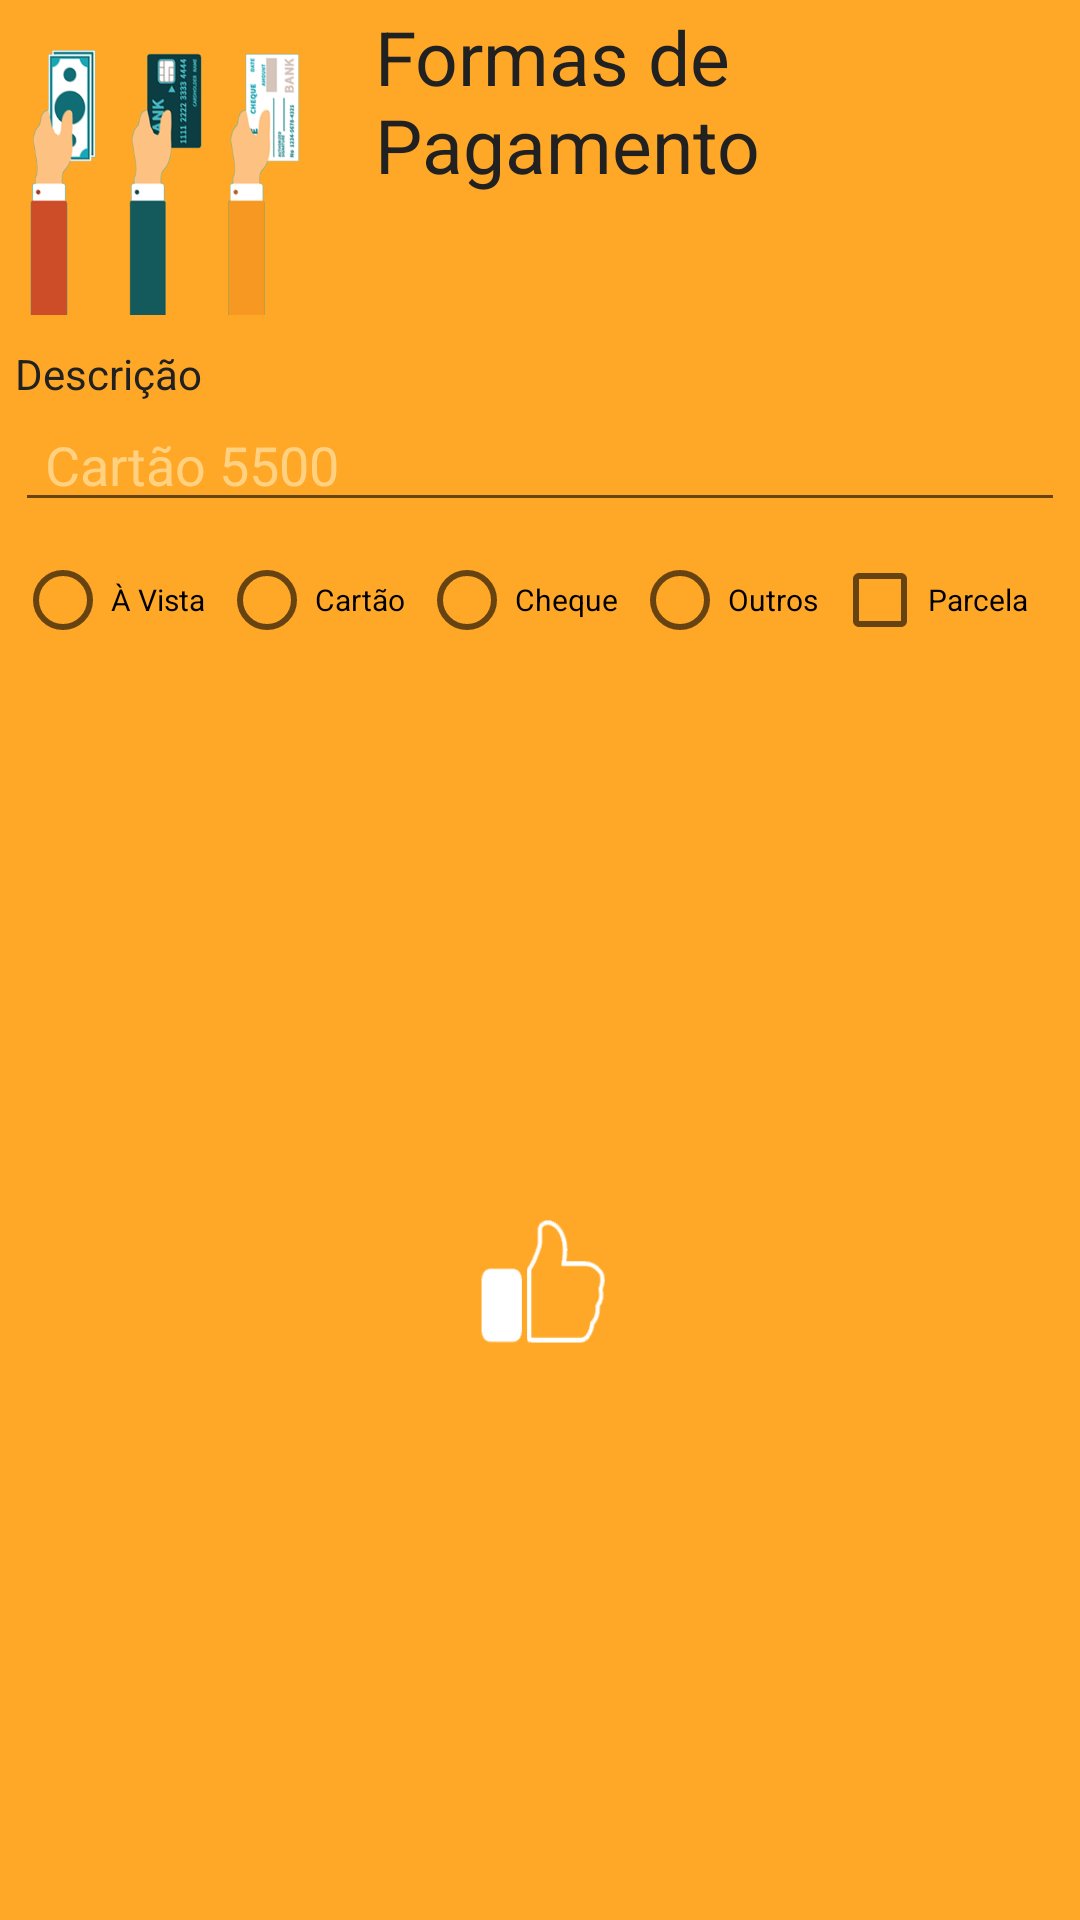

Icons on this 1080 x 1920 Android screen, each with the point to tap as (x,y):
formapag: (164,182)
